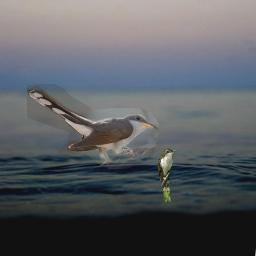Cuckoo: (27, 84, 159, 169), (158, 147, 176, 202)
